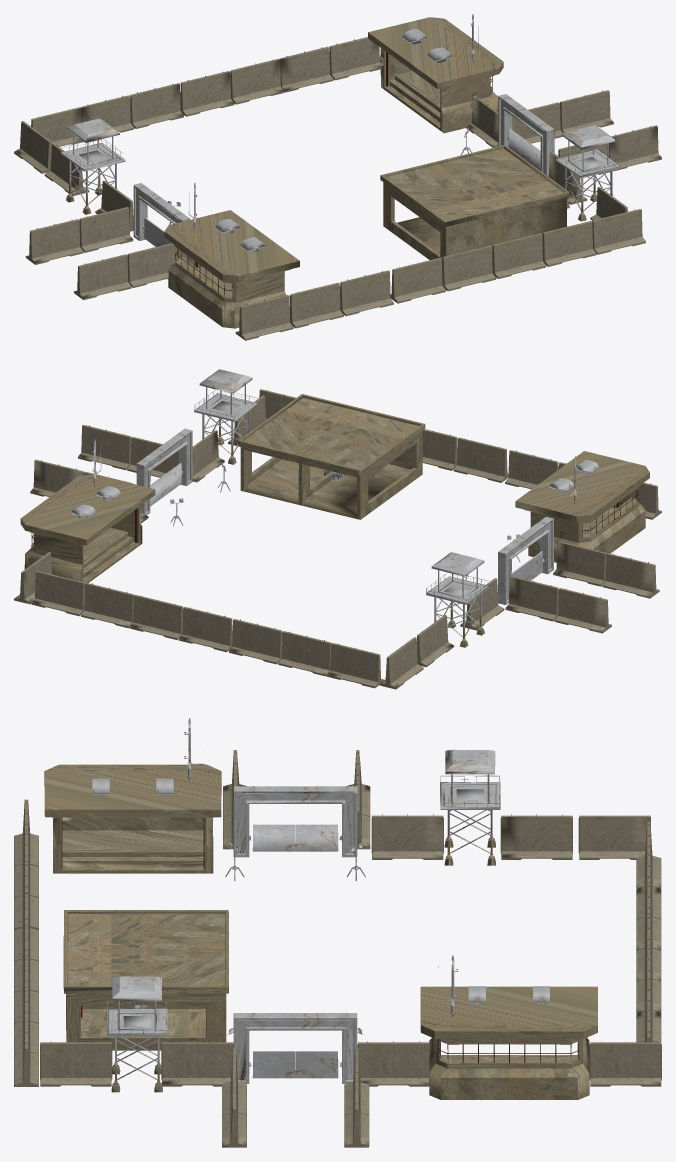
Rendered from checkpoint.glb.
3 views of the same model, one above another, from view 1: azimuth 30°, elevation 25°; view 2: azimuth 150°, elevation 25°; view 3: azimuth 270°, elevation 25° (orthographic). The views are drawn at different scales.
Parts seen in each view (by area): view 1: checkpoint_post; view 2: checkpoint_post; view 3: checkpoint_post.
Boxes of the visible parts, x1,y1,x2,y2 form: checkpoint_post: (14, 14, 661, 340); checkpoint_post: (14, 369, 661, 689); checkpoint_post: (14, 718, 661, 1147).
Bounding box in the file's own units: 14.33 × 2.43 × 10.91.
Materials: 2 (1 with a texture image).
